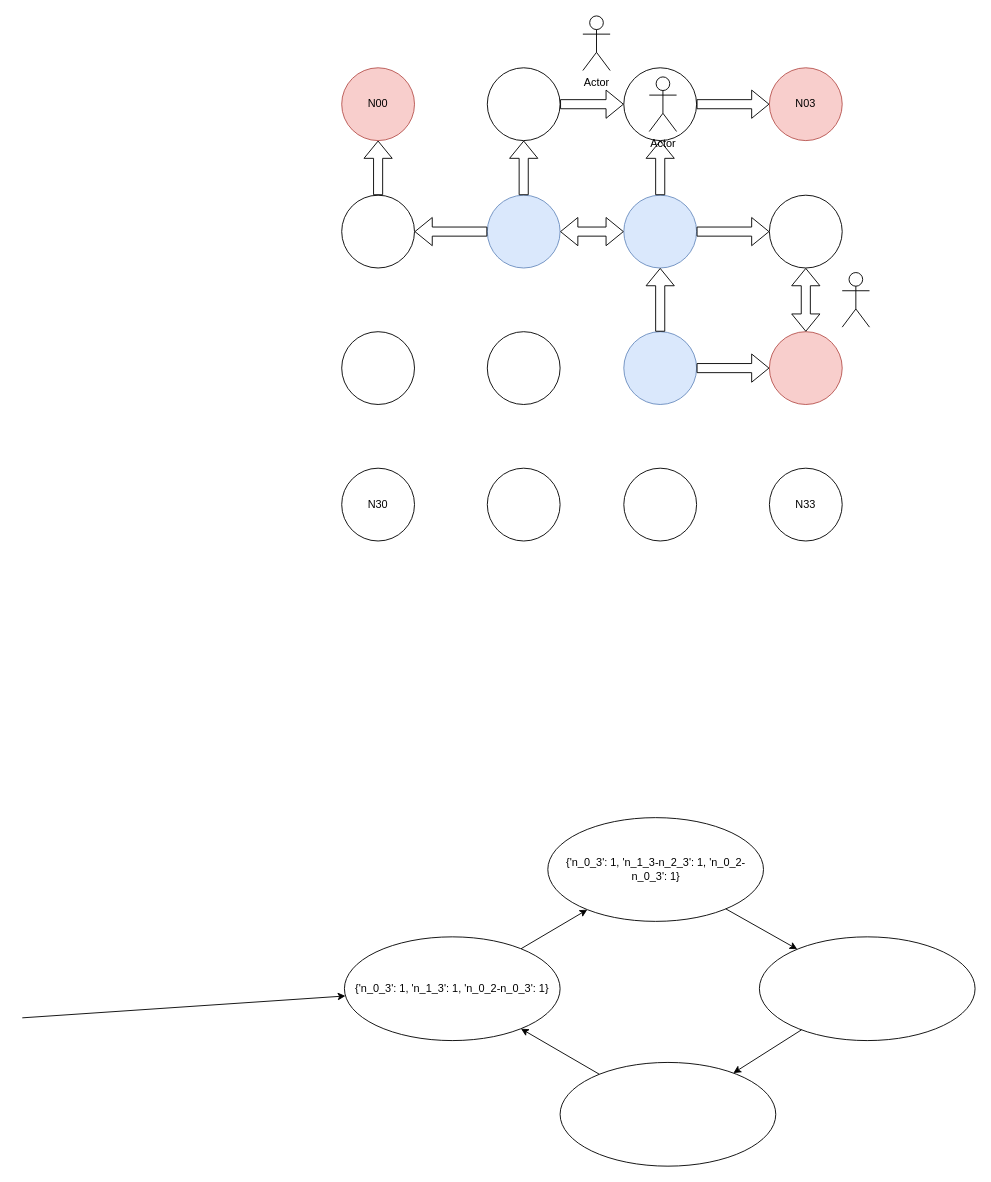
Image size: 991x1182. Some labels were removed from this diagram. The shapes that lost their labels are listed below. From the top down, each one's centre as x and y in pixels, then its label:
At (x=866, y=988): "{'n_0_3': 1, 'n_0_2-n_0_3': 1, 'n_2_3': 1}".
At (x=667, y=1114): "{'n_0_3': 1, 'n_2_3-n_1_3': 1, 'n_0_2-n_0_3': 1}".
